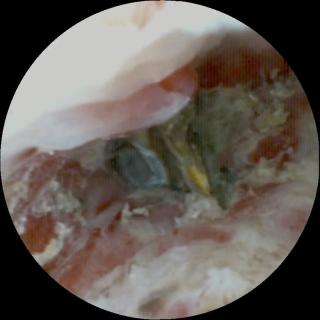stone: (108, 88, 253, 208), (54, 188, 86, 212)
tissue: (8, 8, 316, 314)
